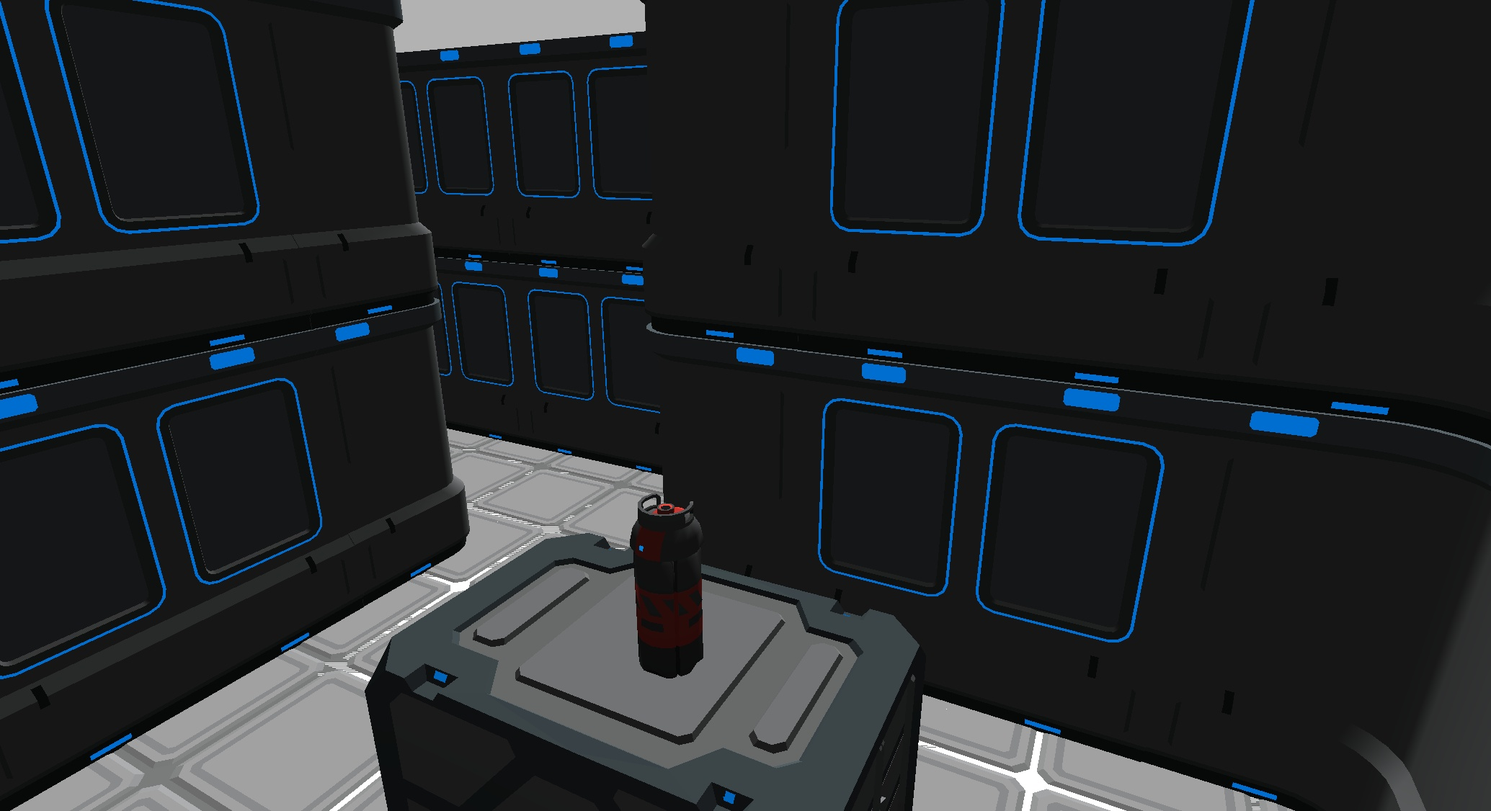red_barrel: (631, 494, 703, 677)
